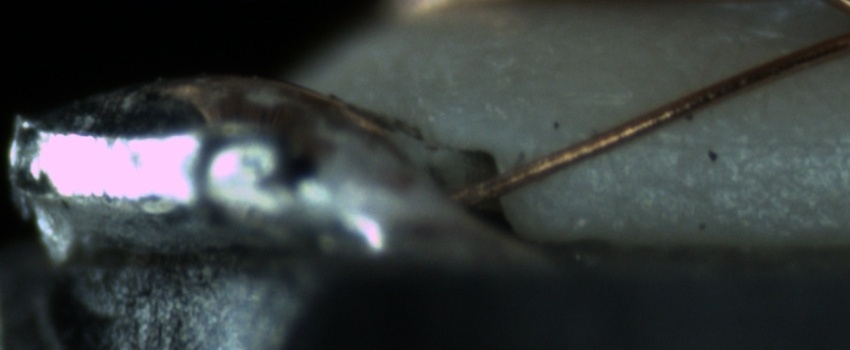DL: (624, 115, 850, 172)
